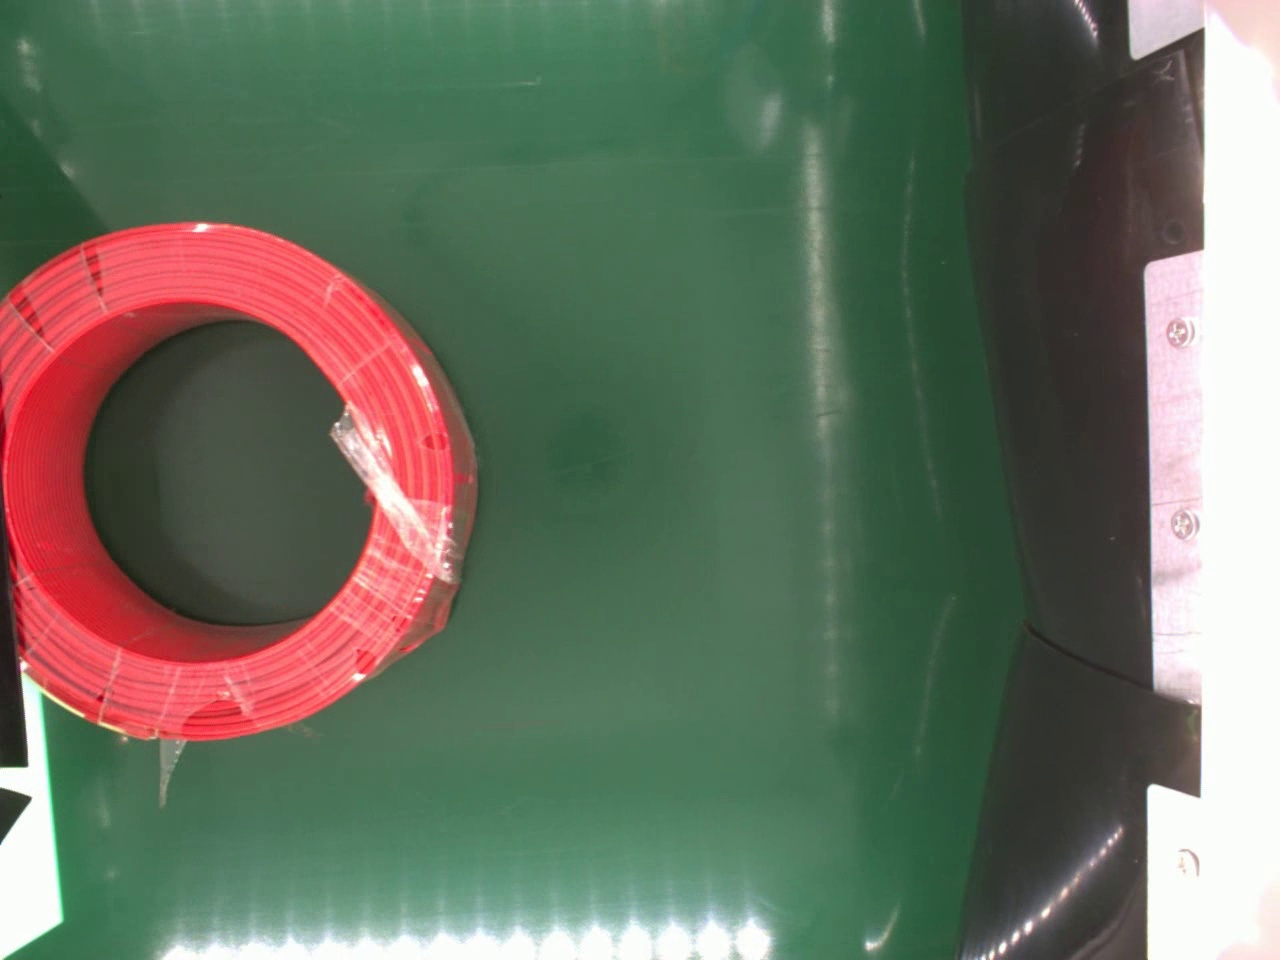red: (0, 218, 481, 745)
